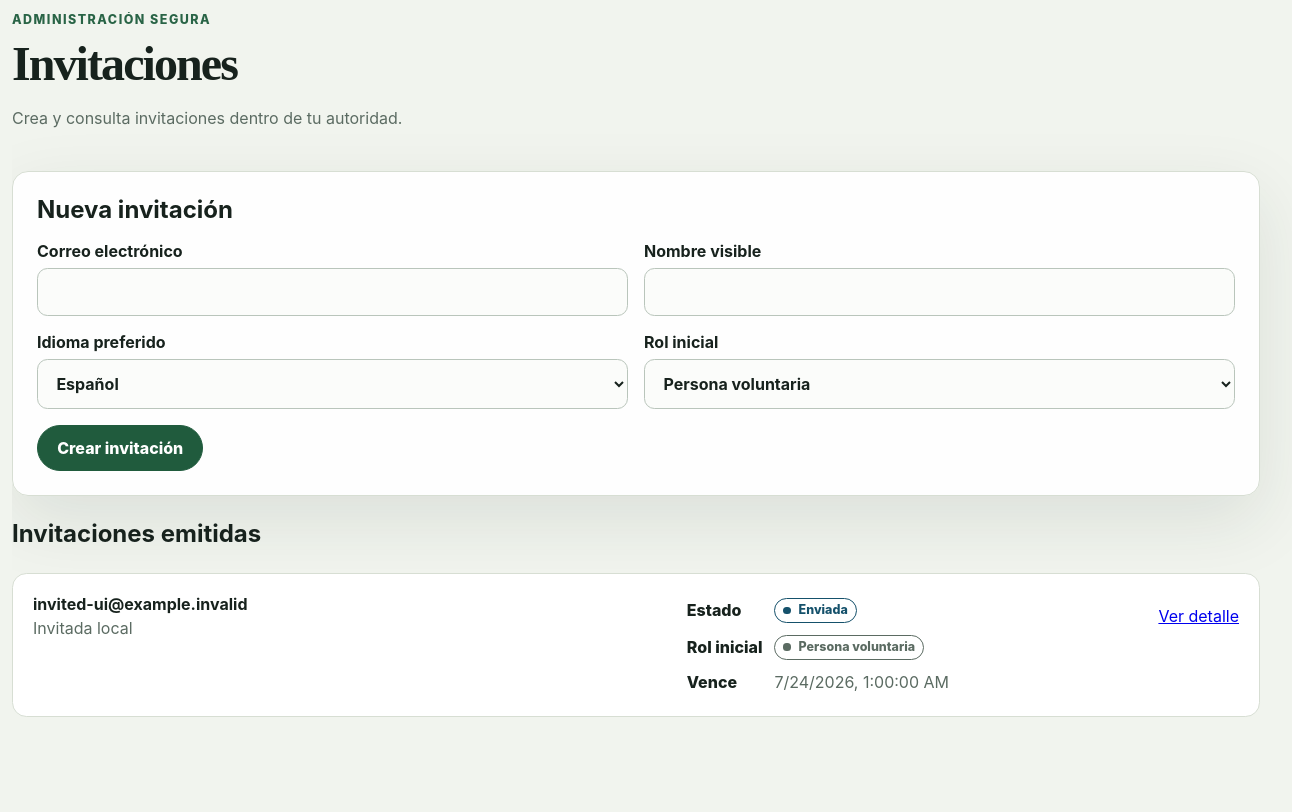
Test: InvitationsPage › reuses the creation idempotency key after an ambiguous failure
Type "retry@example.invalid" into the field labelled "Correo electrónico". click: x=332, y=292
box: [37, 268, 628, 316]
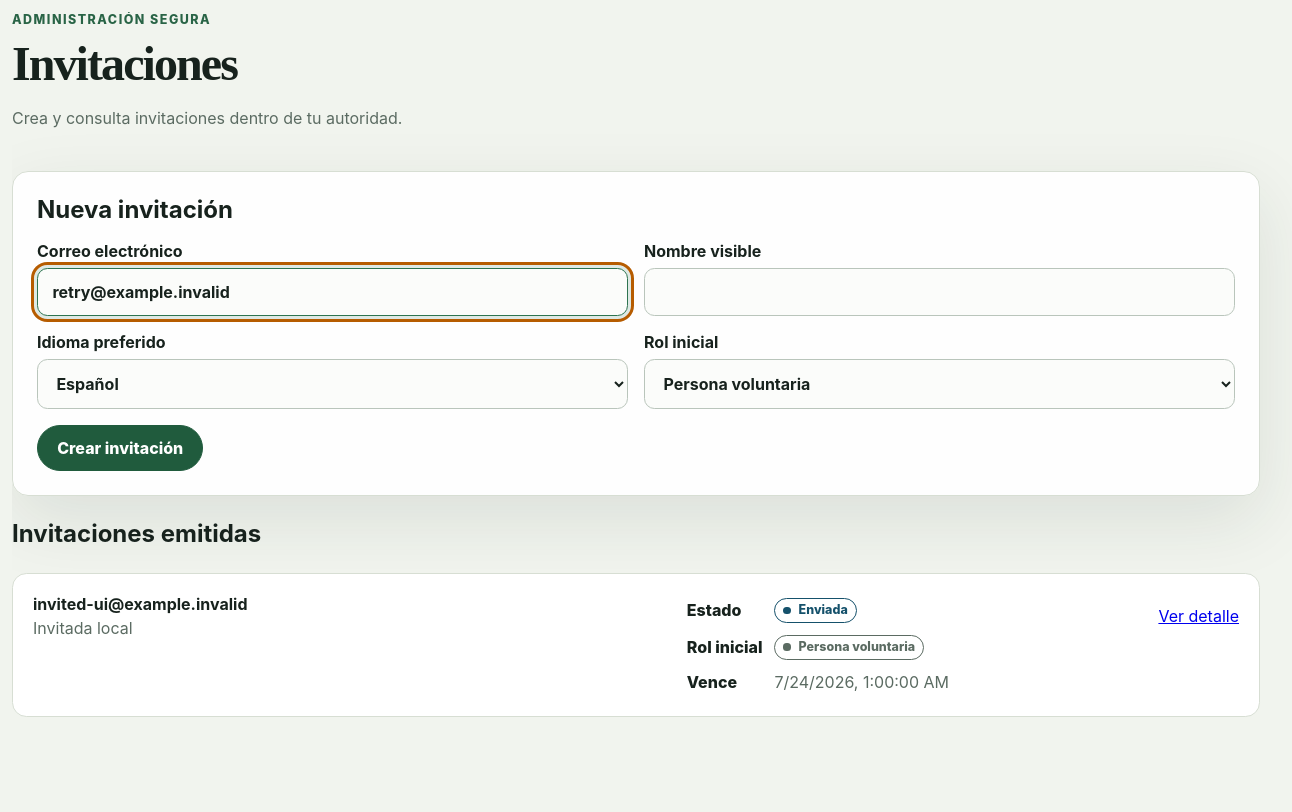
Click the button "Crear invitación". click: x=120, y=448
box: [37, 425, 204, 471]
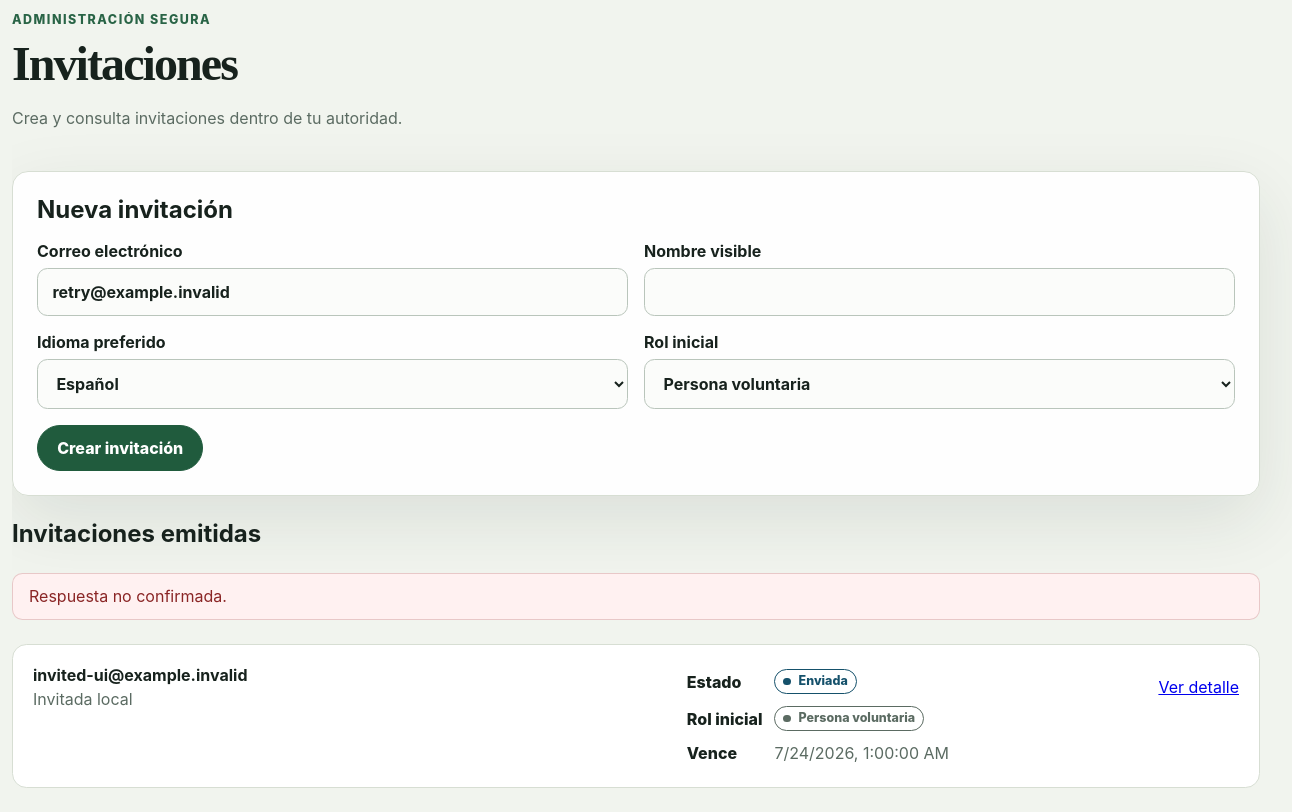
Expected: the text "Respuesta no confirmada." is shown, [12, 573, 1260, 620]
Click the button "Crear invitación". click: x=120, y=448
box: [37, 425, 204, 471]
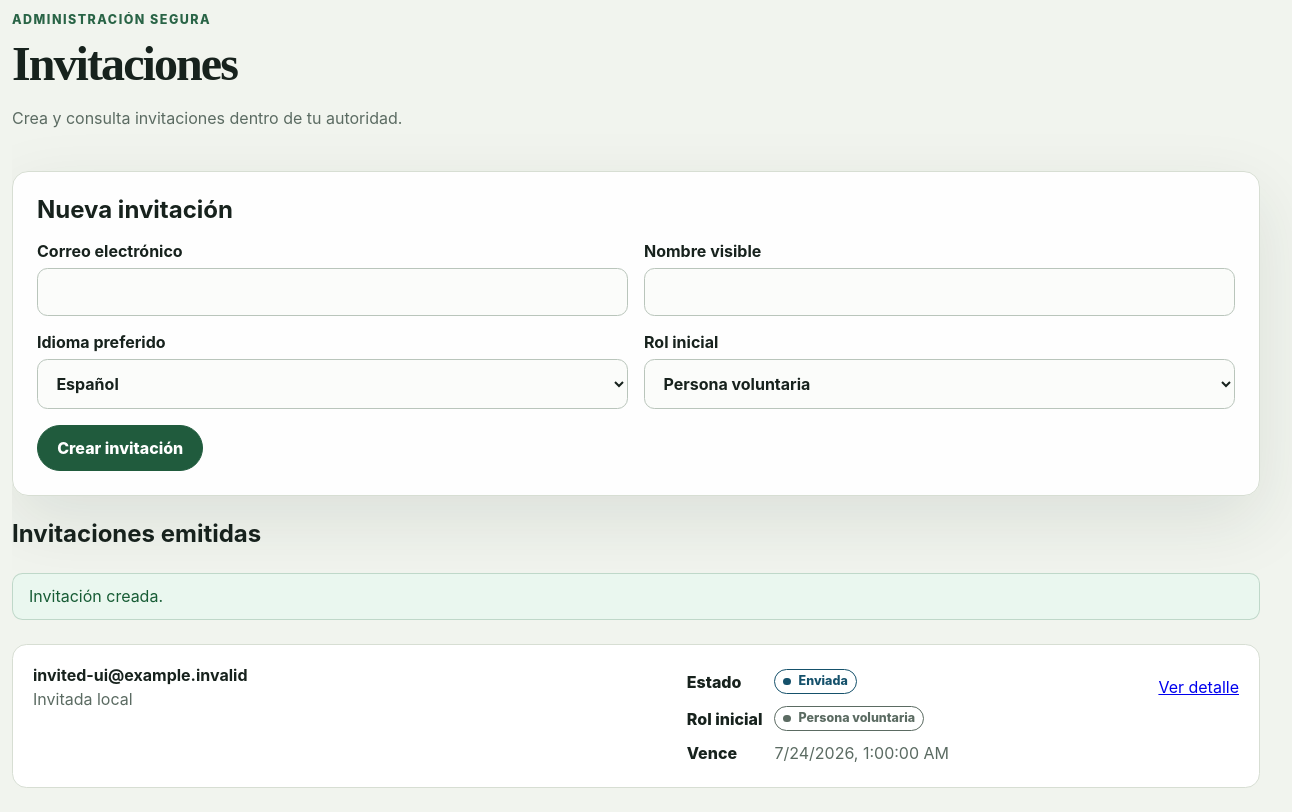
Expected: the text "Invitación creada." is shown, [12, 573, 1260, 620]
